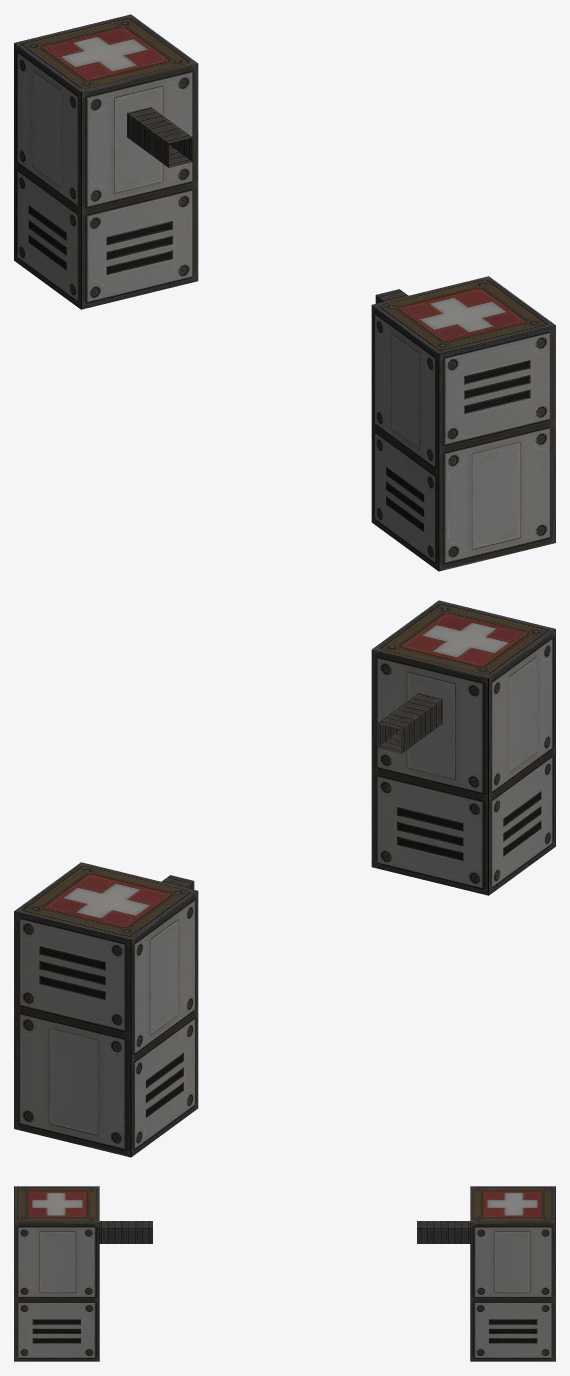
Rendered from accessories_lives_indicator.FBX.
The picture shows the model from 3 angles, top to bottom: view 1: azimuth 30°, elevation 25°; view 2: azimuth 150°, elevation 25°; view 3: azimuth 270°, elevation 25°; orthographic projection. The views are drawn at different scales.
Parts seen in each view (by area): view 1: Object011, Object004; view 2: Object004, Object011; view 3: Object004, Object011.
Part boxes in pixels (x1,y1,x2,y2): Object011: (371, 276, 555, 571); Object004: (14, 14, 198, 309); Object004: (14, 862, 198, 1157); Object011: (371, 600, 555, 895); Object004: (417, 1186, 555, 1361); Object011: (14, 1186, 152, 1361).
Bounding box in the file's own units: 8.15 × 14.47 × 51.2.
